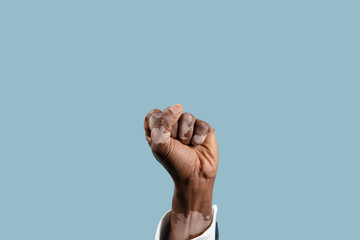vitiligo: (147, 107, 214, 159)
